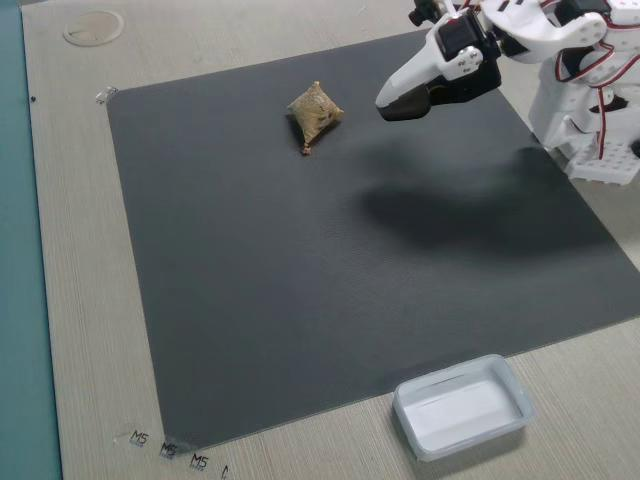objects: (373, 9, 506, 117)
